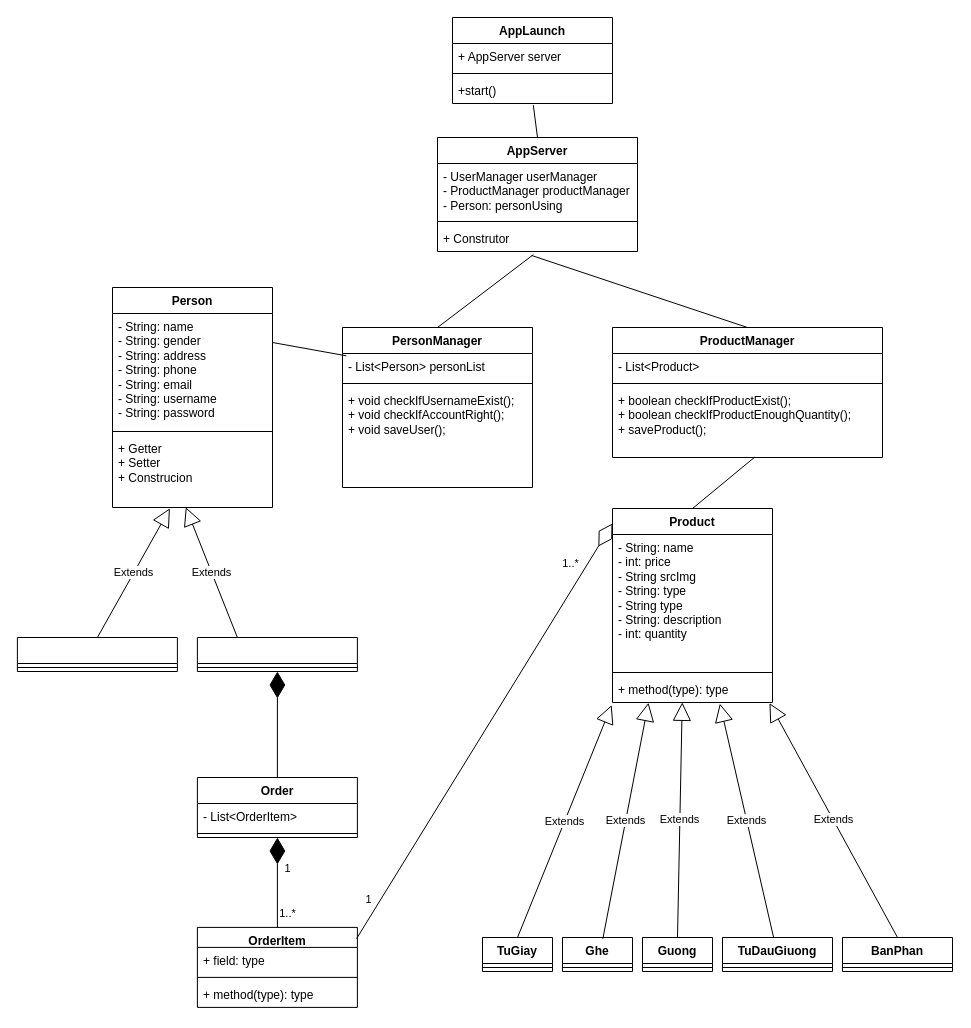
The diagram is 971 pixels wide and 1028 high, and some of its shapes have lost their labels. The shapes that lost their labels are listed below. From the top down, each one's centre as x and y in pixels, then its label:
At [96,654]: "Admin".
At [276,654]: "User".
